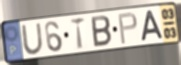6: (44, 20, 65, 55)
A: (139, 9, 165, 43)
B: (90, 14, 113, 49)
P: (117, 11, 139, 46)
T: (69, 16, 86, 52)
U: (20, 21, 46, 56)
